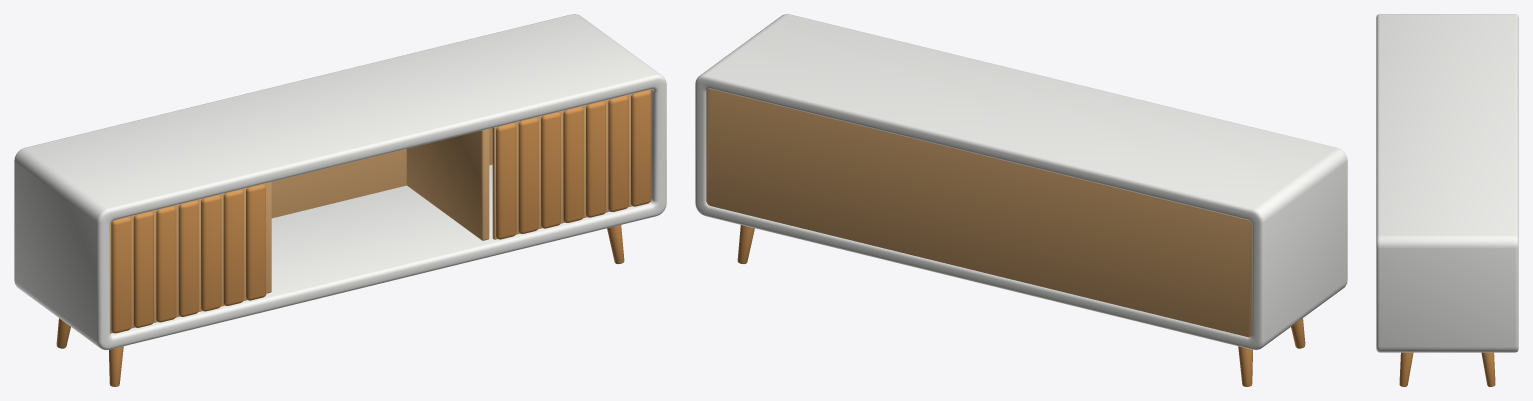
Rendered from rack_ripado_mel.glb.
3 views of the same model, side by side, from view 1: azimuth 30°, elevation 25°; view 2: azimuth 150°, elevation 25°; view 3: azimuth 270°, elevation 25° (orthographic). The views are drawn at different scales.
Visible parts, largest first — view 1: rack_ripado_mel, porta_2, porta_1; view 2: rack_ripado_mel; view 3: rack_ripado_mel.
Boxes of the visible parts, x1,y1,x2,y2 form: rack_ripado_mel: (14, 14, 666, 386); porta_2: (492, 89, 651, 239); porta_1: (110, 183, 266, 333); rack_ripado_mel: (695, 14, 1347, 386); rack_ripado_mel: (1376, 14, 1518, 386).
Bounding box in the file's own units: 1.6 × 0.5211 × 0.42.
Materials: 1 (1 with a texture image).
